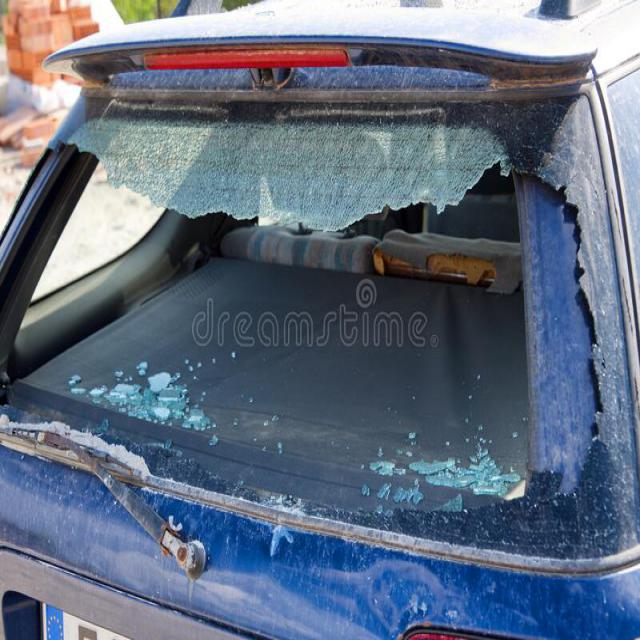Rear-windscreen-Damage: (0, 4, 639, 580)
